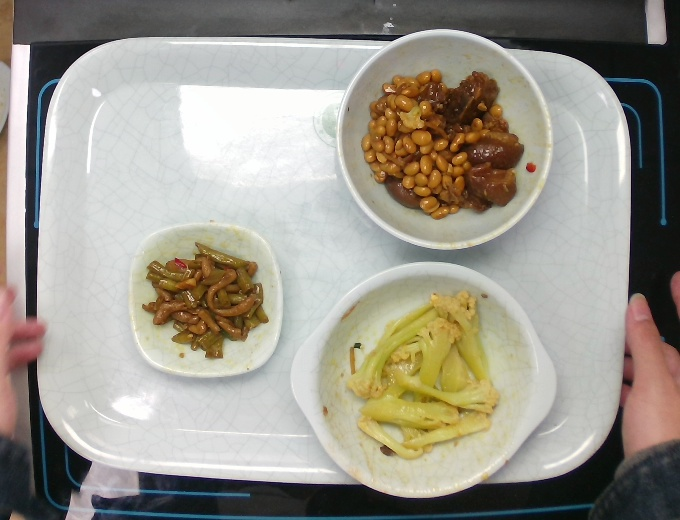JYsf-Fan_Wan: (333, 26, 561, 253)
JYsf-Shuang_Er_Wan: (287, 258, 561, 501)
JYsf-Si_Fang_Die: (124, 216, 290, 382)
